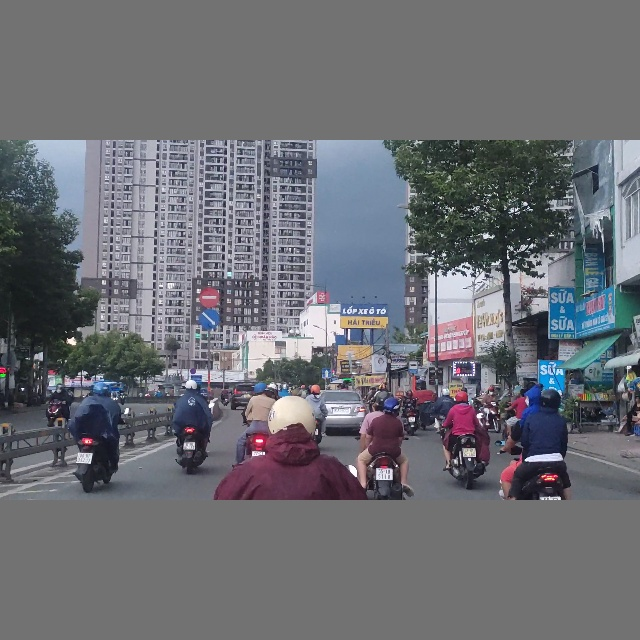I.407a: (322, 368, 332, 378)
I.434a: (409, 360, 418, 373)
P.102: (197, 286, 220, 308)
R.302a: (197, 309, 221, 330)
